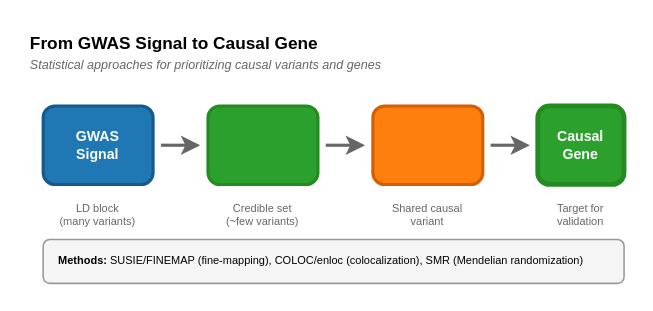
The diagram is 653 pixels wide and 311 high, and some of its shapes have lost their labels. Here are the shapes that lost their labels. From the top down, the box of each, then its label:
(206, 104, 319, 185): Statistical Fine-mapping
(371, 104, 484, 185): eQTL Colocalization
